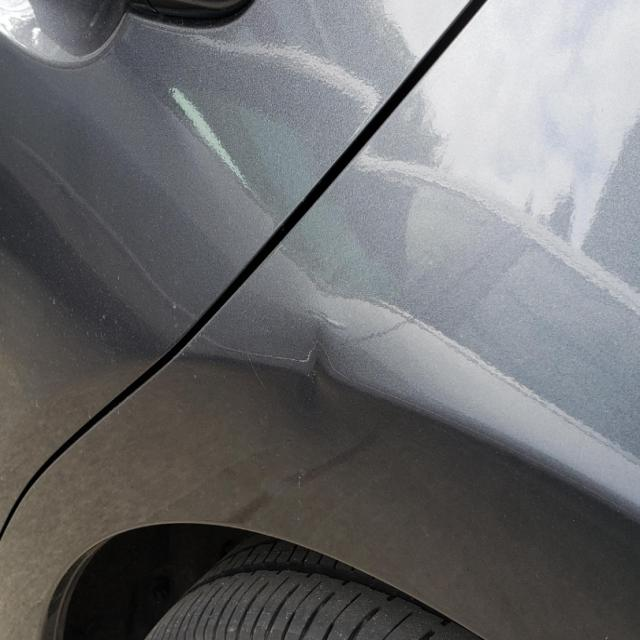dents: (266, 270, 411, 468)
